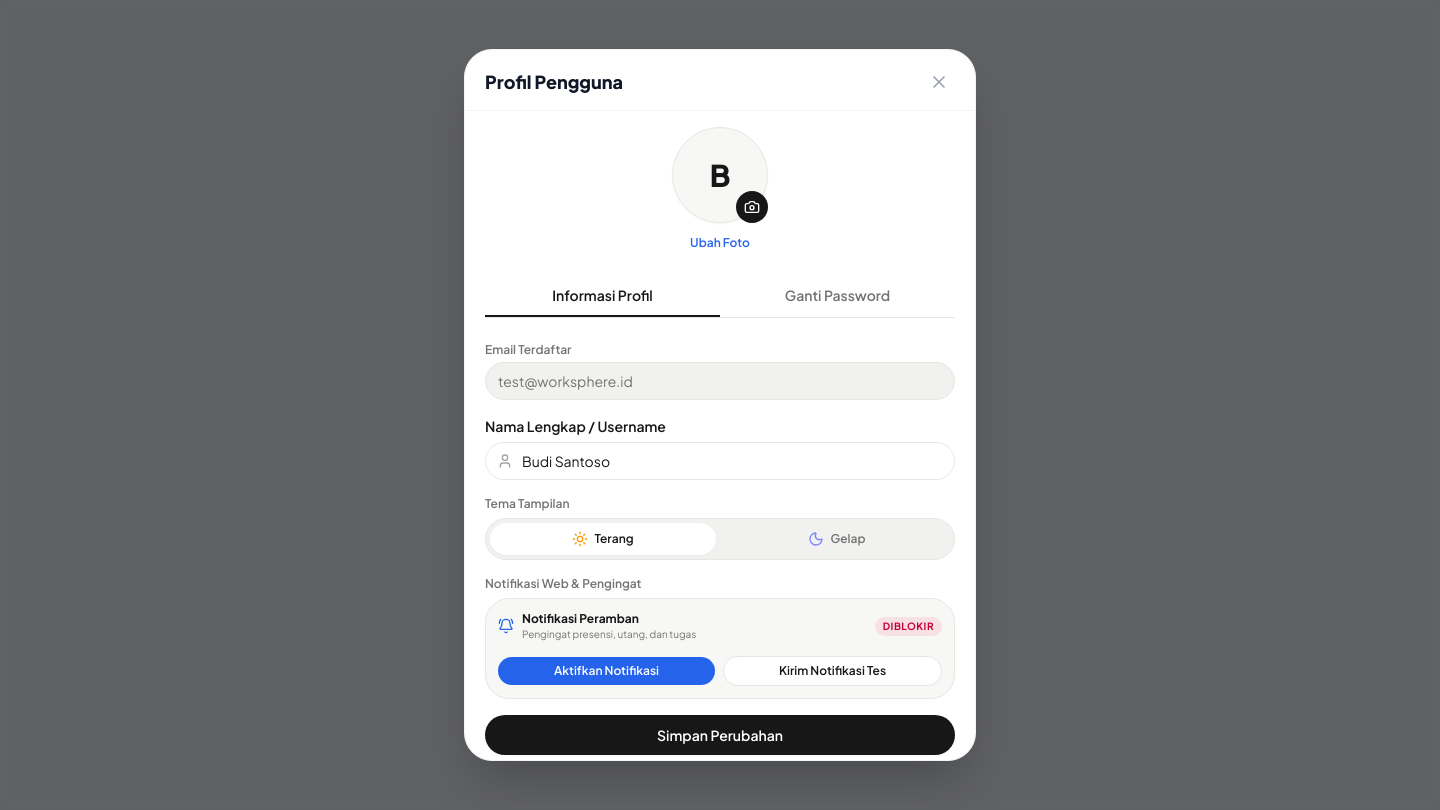
Test: ProfileModal › should validate password format and match on password change
Click the button "Ganti Password".
click(838, 296)  # box left=720, top=275, right=955, bottom=317
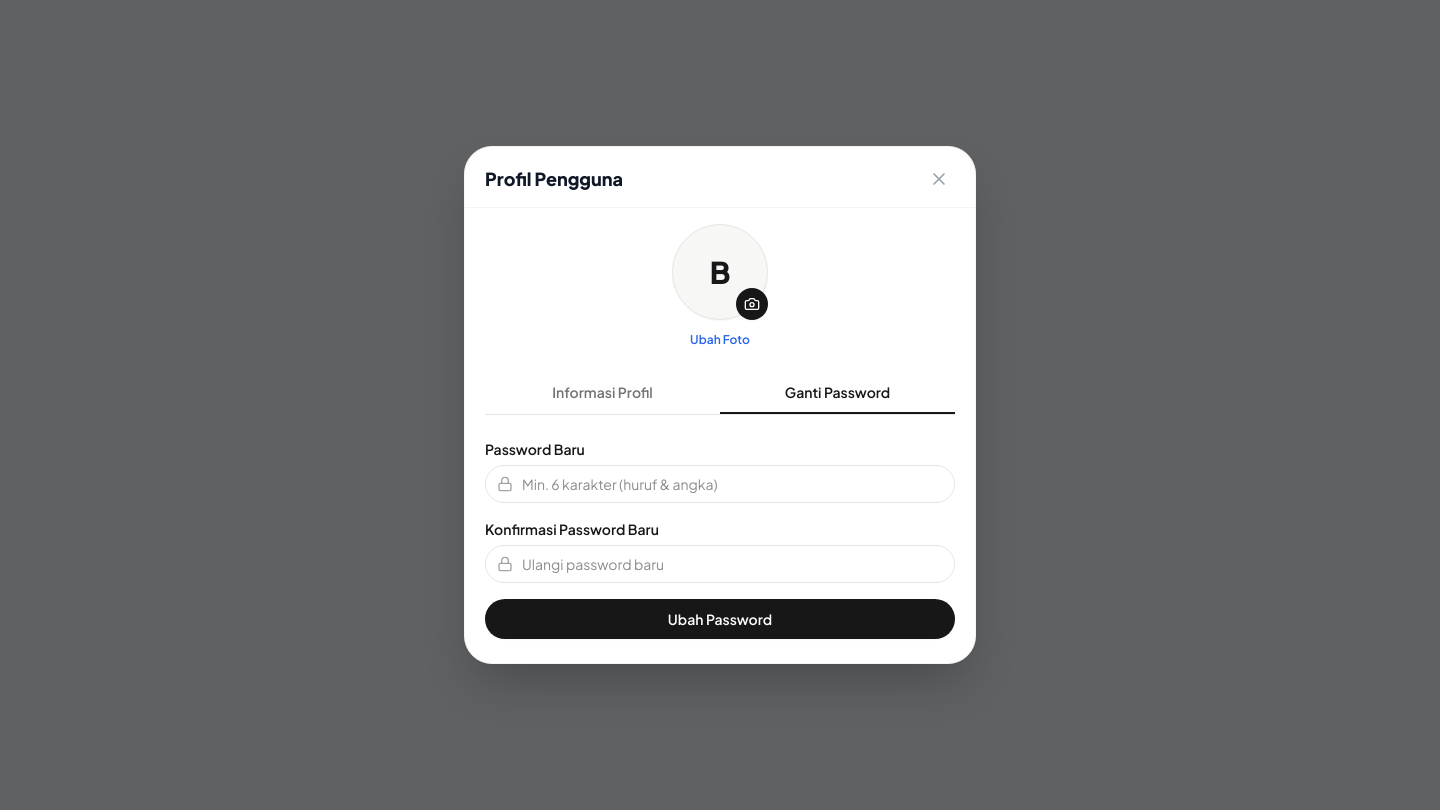
Type "password" into the password field labelled "Password Baru".
click(720, 484); type("password")  # box left=485, top=465, right=955, bottom=503
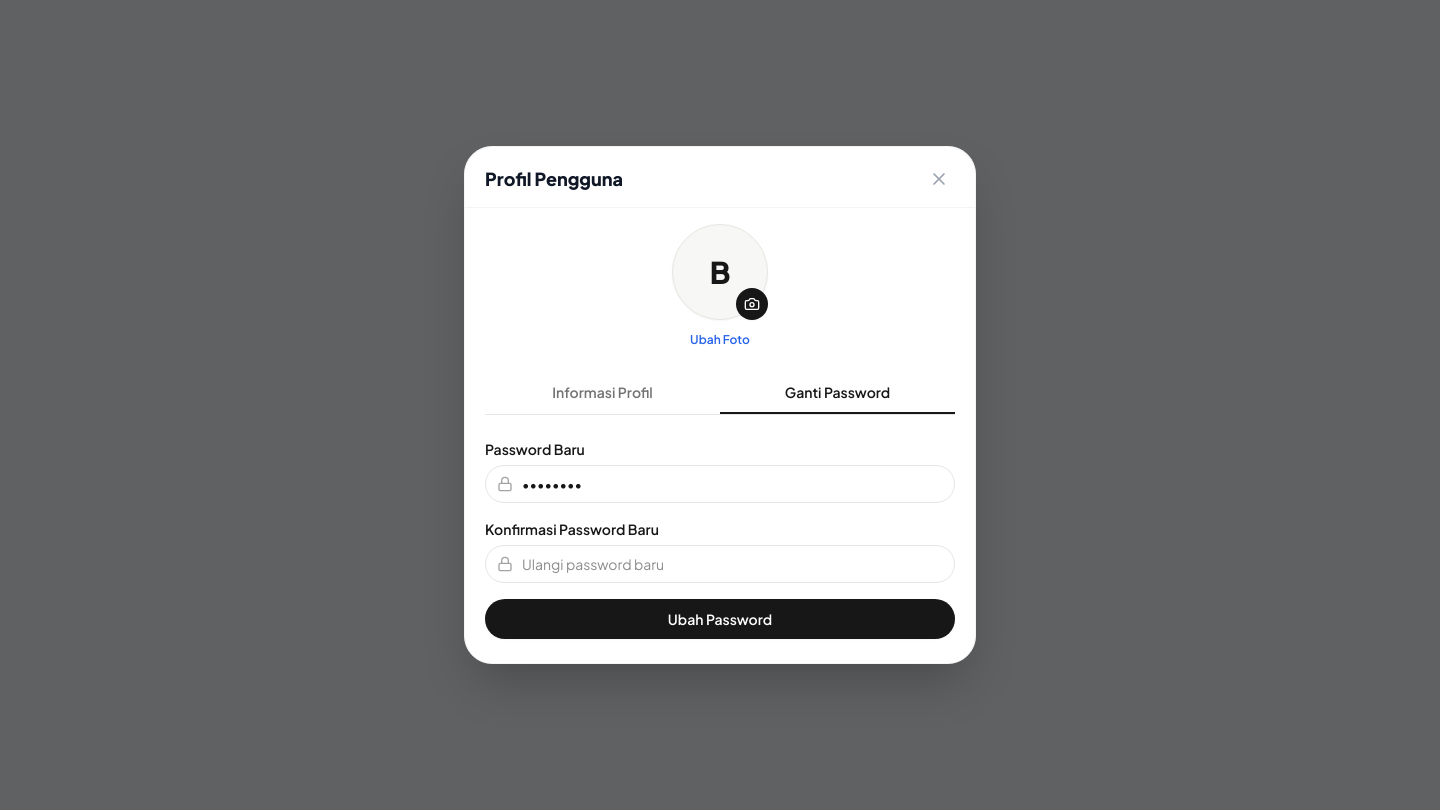
Type "password" into the password field labelled "Konfirmasi Password Baru".
click(720, 564); type("password")  # box left=485, top=545, right=955, bottom=583
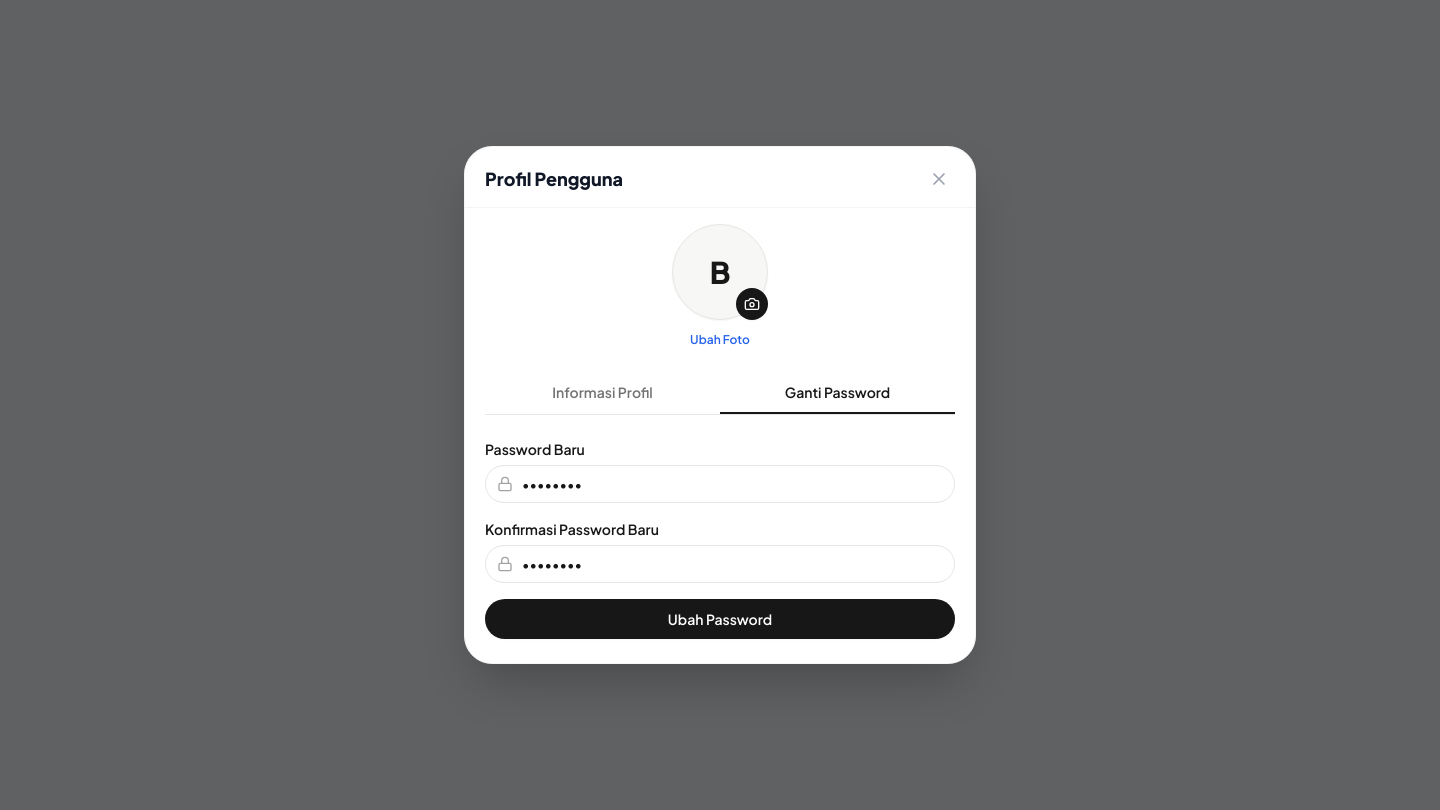
Click the button "Ubah Password".
click(720, 619)  # box left=485, top=599, right=955, bottom=639
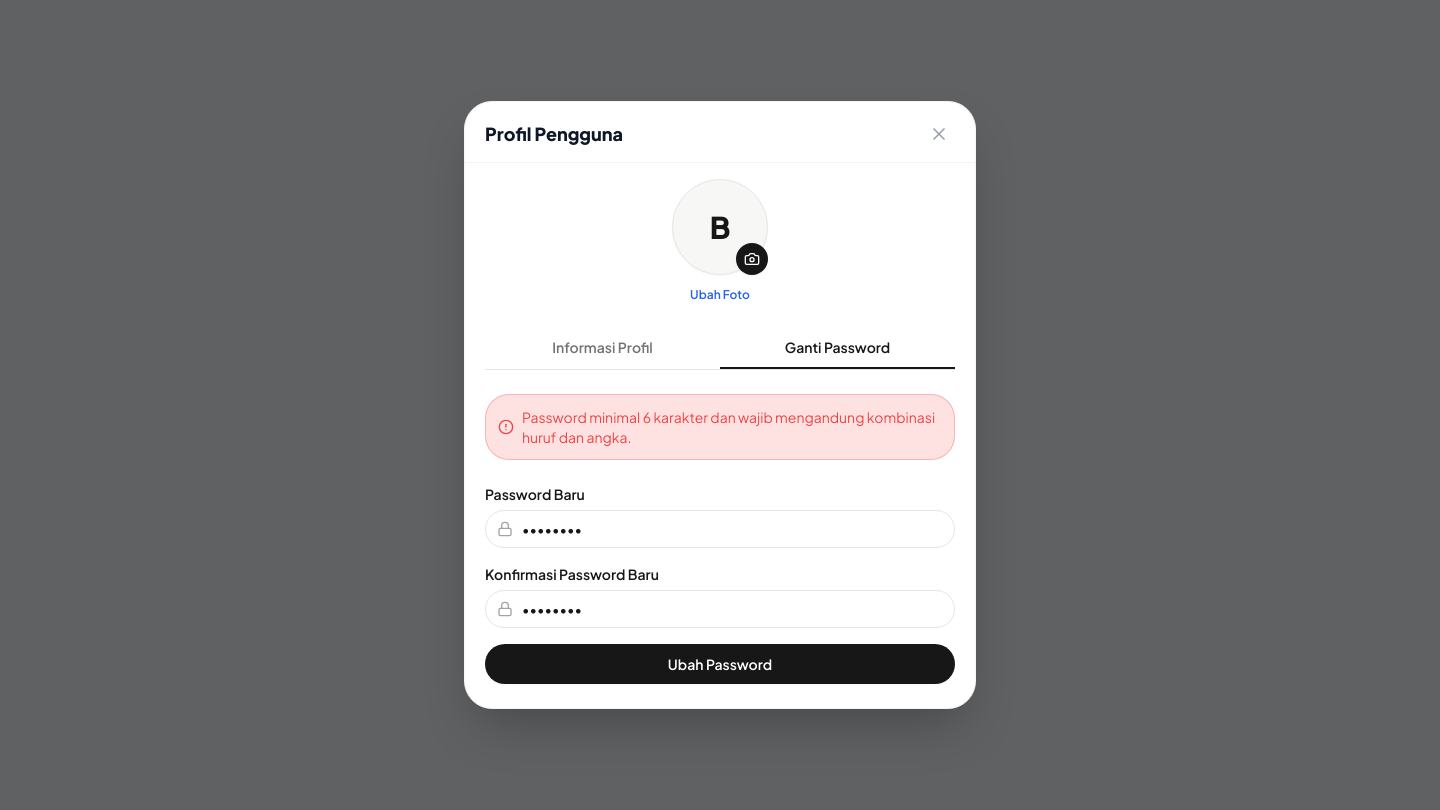
Now the text "Password minimal 6 karakter dan wajib mengandung kombinasi huruf dan angka" is shown, box left=522, top=408, right=935, bottom=446
